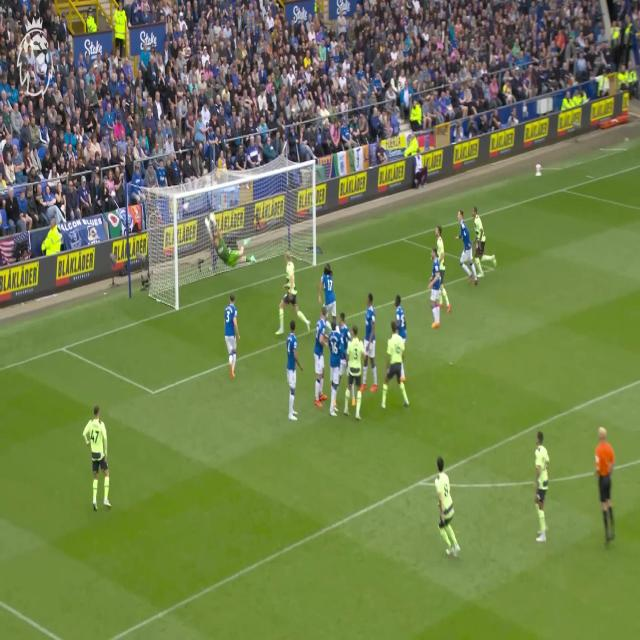left-top: (243, 161, 315, 181)
soccer-goal: (178, 162, 316, 312)
